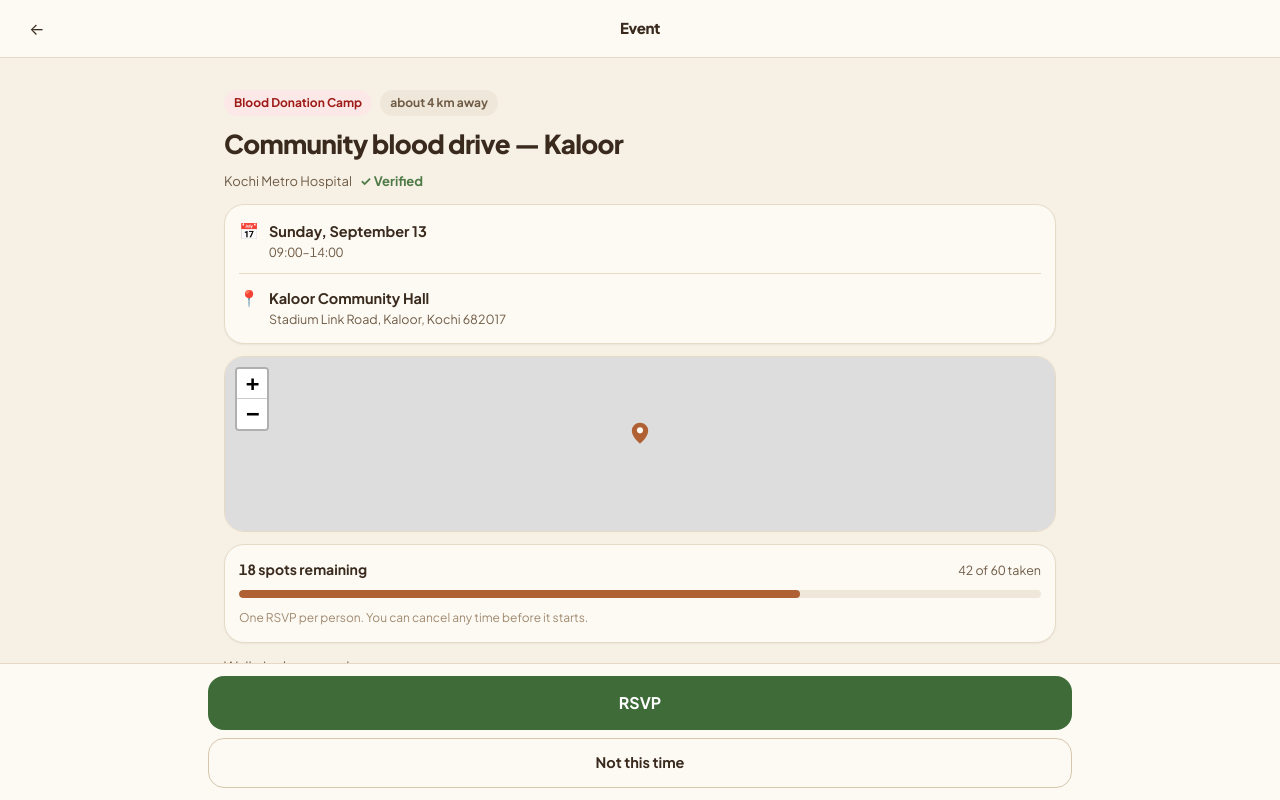
Test: EventDetailPage › RSVPs and shows the going state with a reference code (AC1)
The width and height of the screenshot is (1280, 800).
Click the button "RSVP".
click(640, 703)  # box [208, 676, 1072, 730]
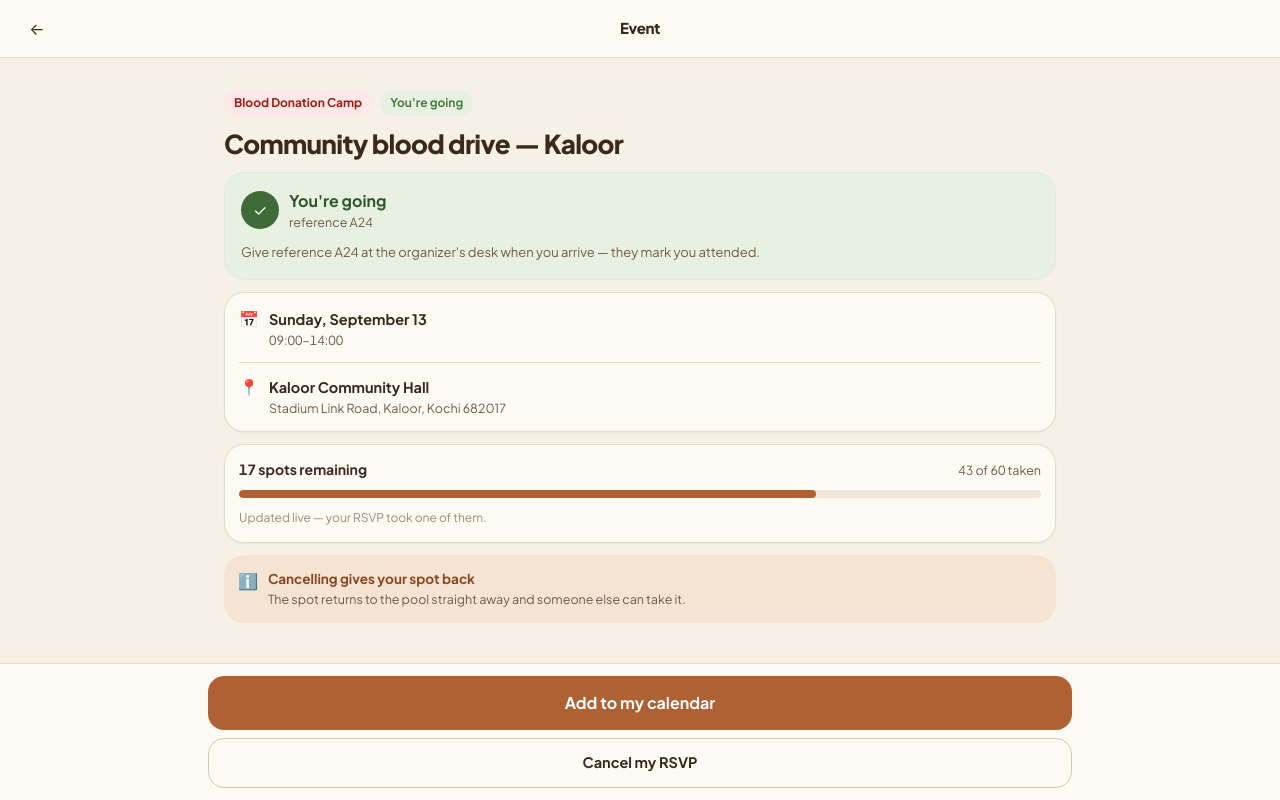
Result: the text "You're going" next to "Blood Donation Camp" is shown at [390, 95, 463, 110]
Result: the text "reference A24" is shown at [289, 213, 386, 232]
